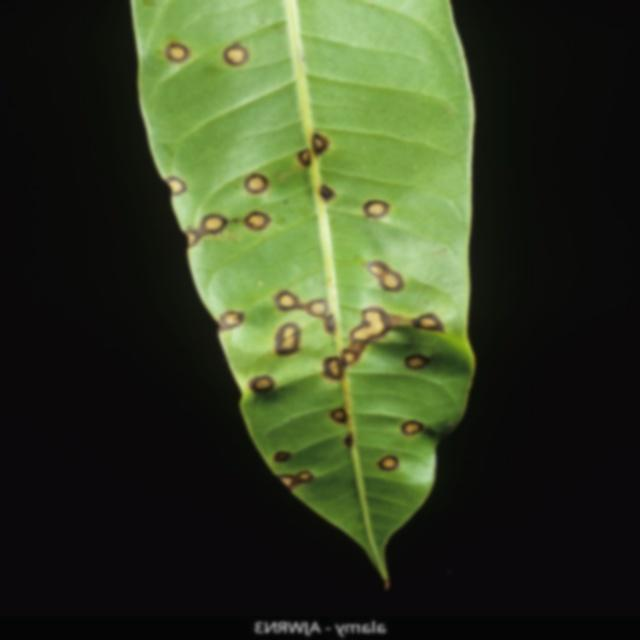leaf_spot: (134, 1, 506, 598)
